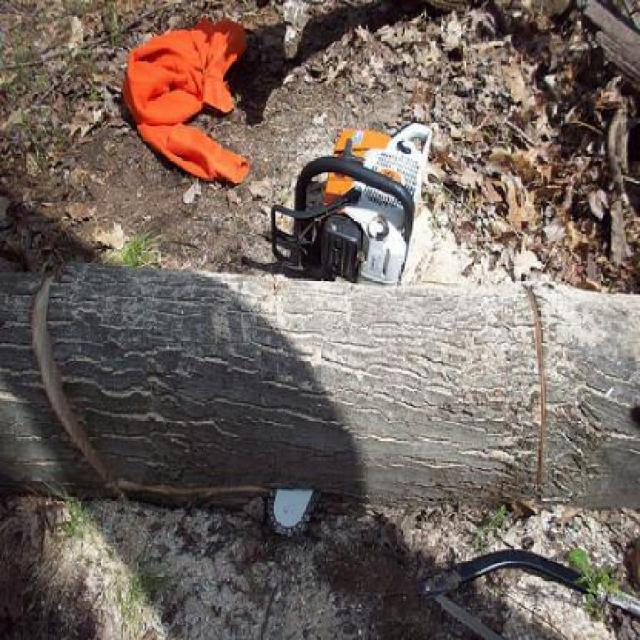Chainsaw: (258, 123, 437, 292)
